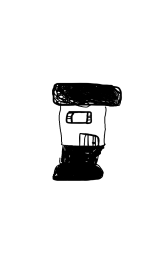door: (78, 130, 102, 150)
open_window: (64, 109, 96, 127)
shaded_roof: (46, 79, 126, 108)
shadow: (50, 143, 111, 183)
small_house: (2, 0, 161, 260)
wall: (56, 101, 111, 151)
